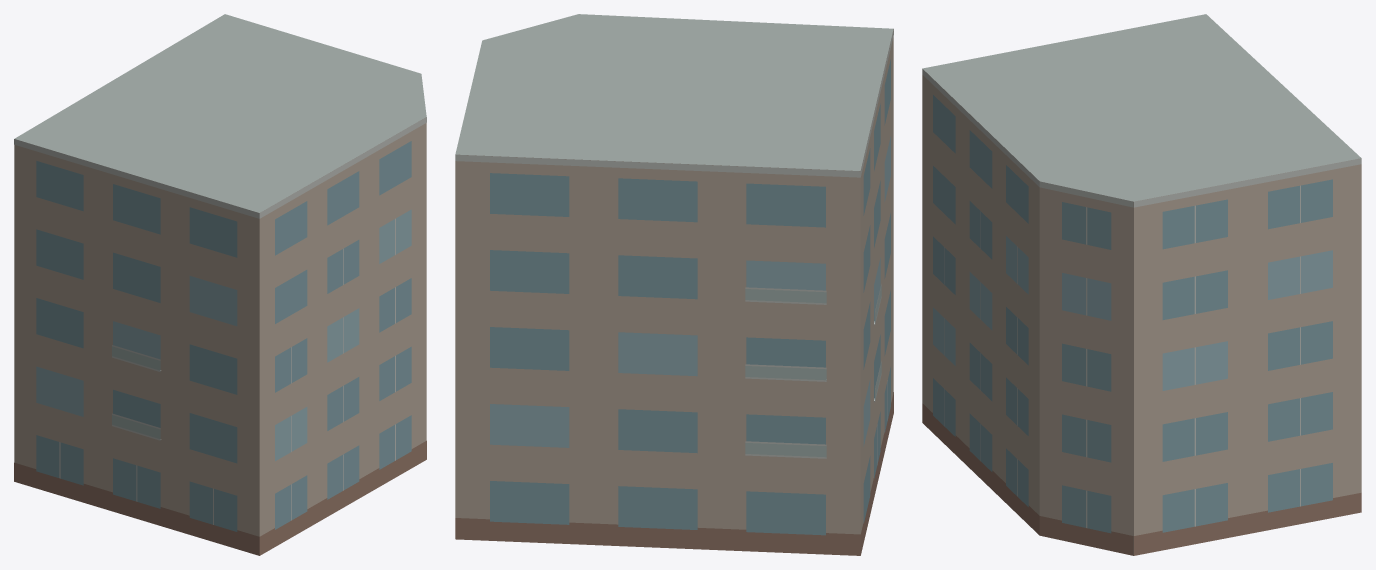
Rendered from survey-upis-32747341.glb.
The picture shows the model from 3 angles, left to right: view 1: azimuth 30°, elevation 25°; view 2: azimuth 150°, elevation 25°; view 3: azimuth 270°, elevation 25°; orthographic projection. The views are drawn at different scales.
Parts seen in each view (by area): view 1: survey-upis-32747341.tmp; view 2: survey-upis-32747341.tmp; view 3: survey-upis-32747341.tmp.
Part boxes in pixels (x1,y1,x2,y2): survey-upis-32747341.tmp: [14, 14, 426, 555]; survey-upis-32747341.tmp: [455, 14, 893, 555]; survey-upis-32747341.tmp: [922, 14, 1361, 555].
Bounding box in the file's own units: 16.37 × 14.4 × 16.2.
